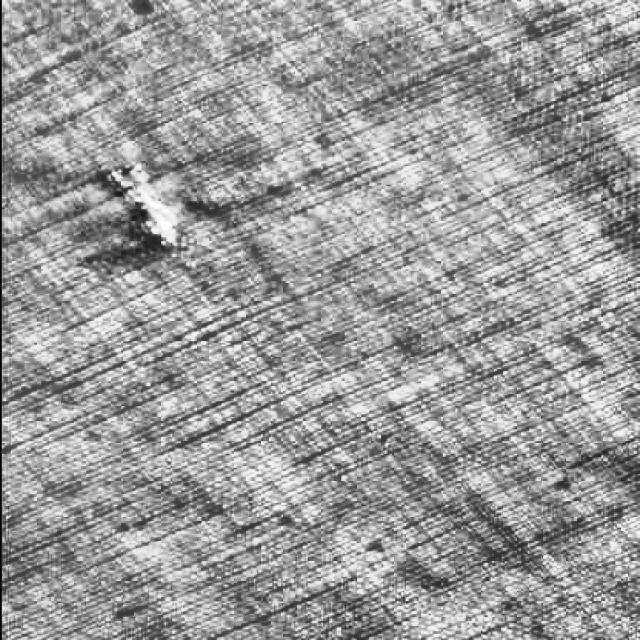hole: (98, 141, 192, 264)
